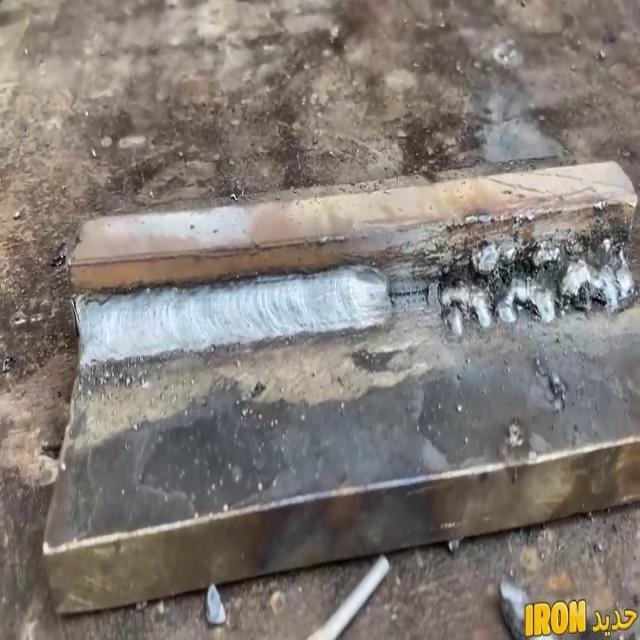Bad Weld: (443, 228, 635, 324)
Defect: (72, 259, 392, 369)
